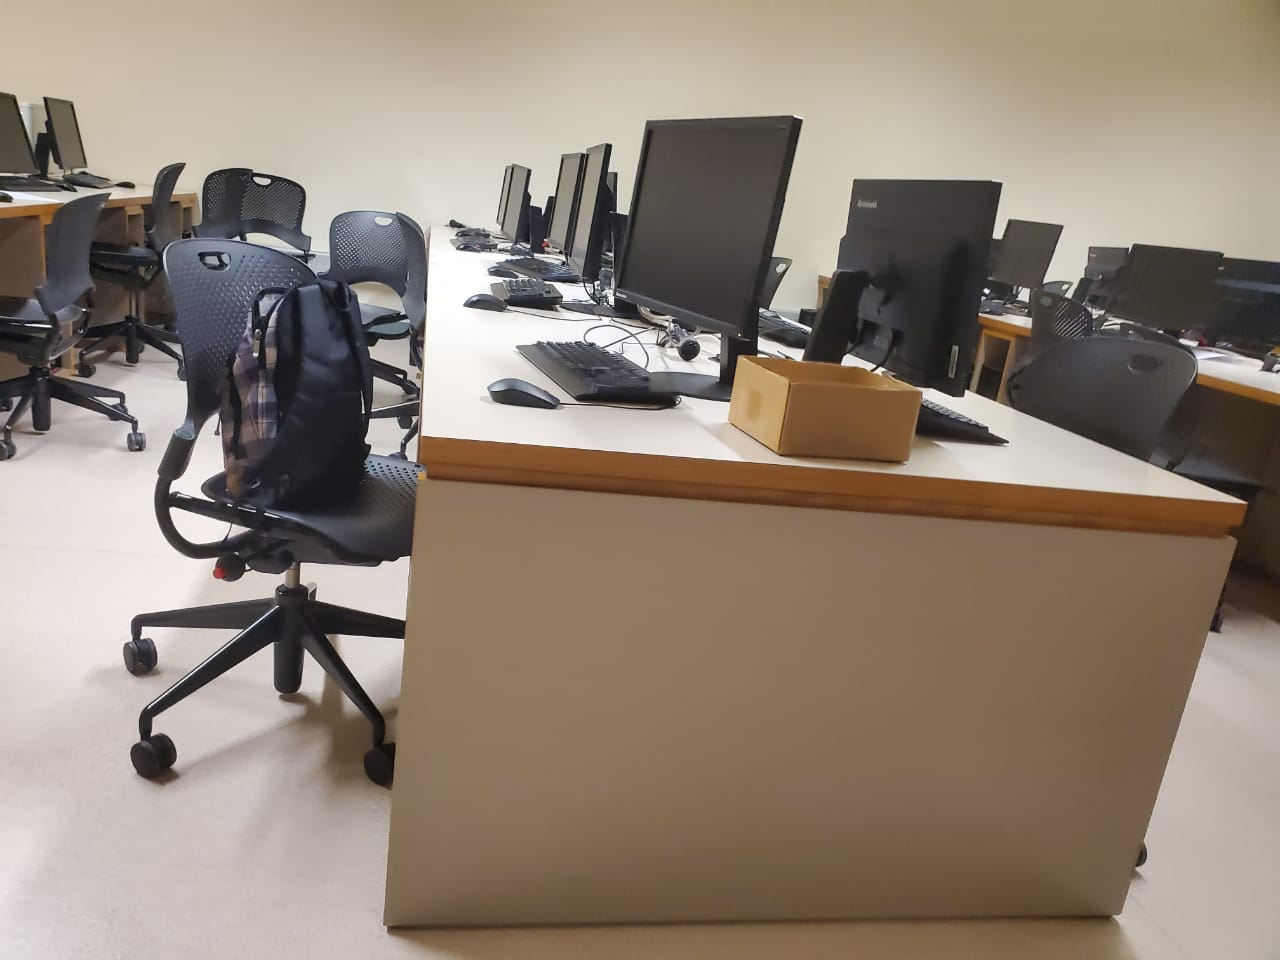CBox: (728, 355, 925, 467)
